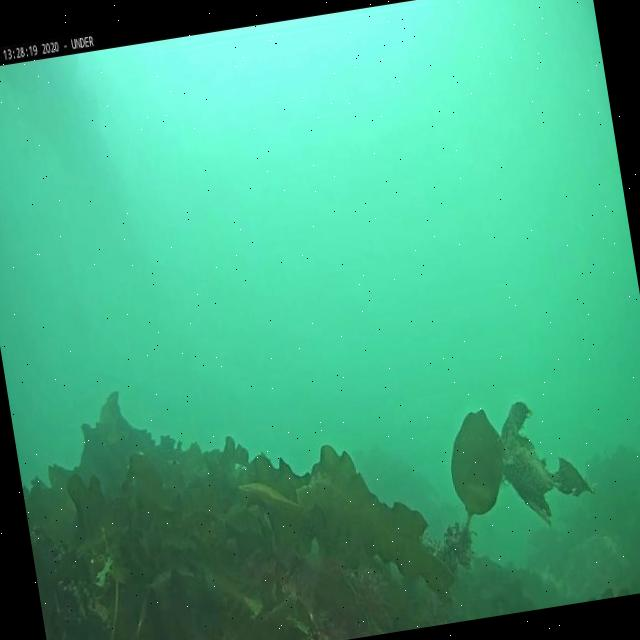fish: (237, 474, 305, 524)
